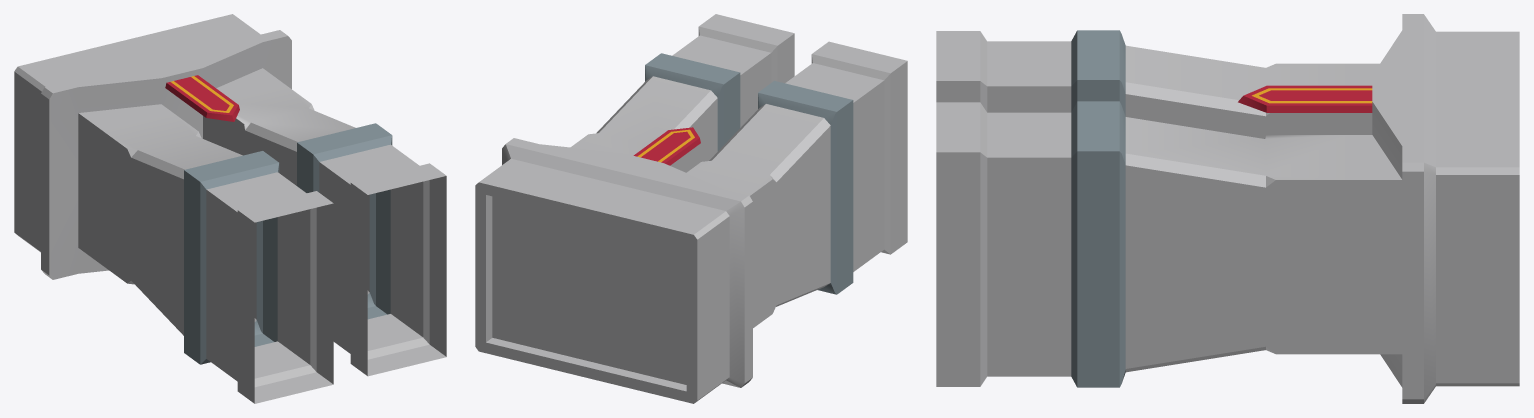
Rendered from Tower.dae.
3 views of the same model, side by side, from view 1: azimuth 30°, elevation 25°; view 2: azimuth 150°, elevation 25°; view 3: azimuth 270°, elevation 25° (orthographic). The views are drawn at different scales.
Parts seen in each view (by area): view 1: Wall_ArcheryTower; view 2: Wall_ArcheryTower; view 3: Wall_ArcheryTower.
Part boxes in pixels (x1,y1,x2,y2): Wall_ArcheryTower: (14, 14, 446, 403); Wall_ArcheryTower: (475, 14, 907, 403); Wall_ArcheryTower: (936, 14, 1519, 403).
Bounding box in the file's own units: 3.09 × 4.97 × 2.27.
